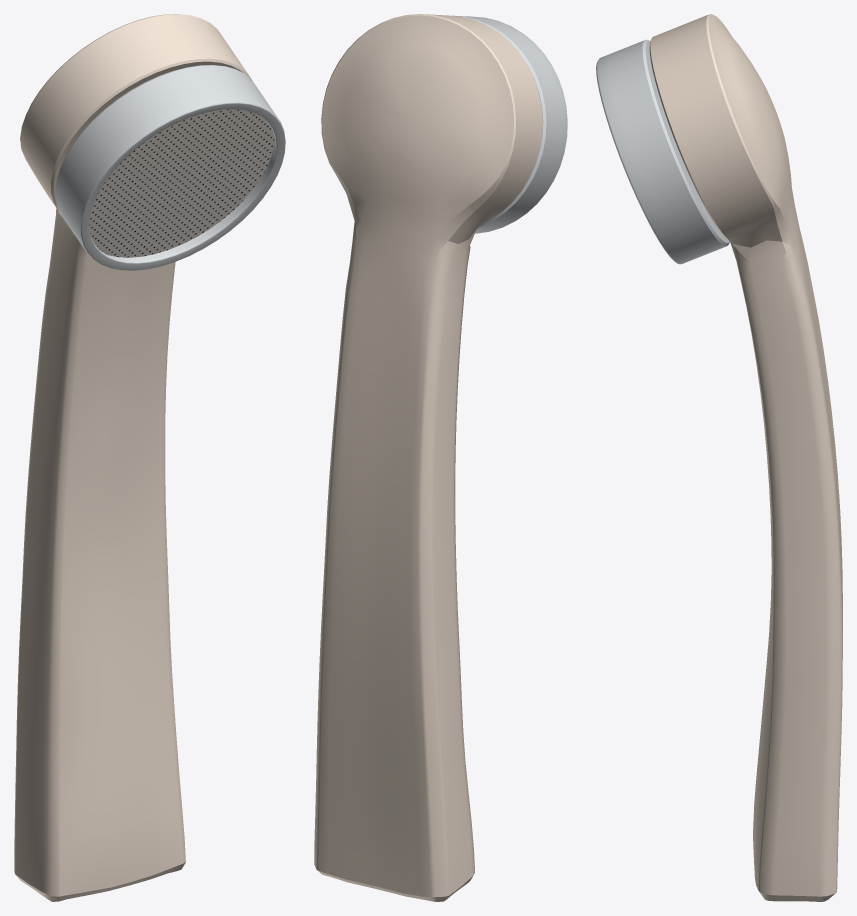
The model's file is Shower_head.fbx.
3 views of the same model, side by side, from view 1: azimuth 30°, elevation 25°; view 2: azimuth 150°, elevation 25°; view 3: azimuth 270°, elevation 25° (orthographic). The views are drawn at different scales.
Parts seen in each view (by area): view 1: Shower_head2; view 2: Shower_head2; view 3: Shower_head2.
Part boxes in pixels (x1=…): Shower_head2: x1=14, y1=14, x2=285, y2=901; Shower_head2: x1=314, y1=14, x2=567, y2=901; Shower_head2: x1=596, y1=14, x2=842, y2=901.
Size of the model in its own units: 0.5352 by 2.23 by 0.5896.
1 material, 1 textured.
